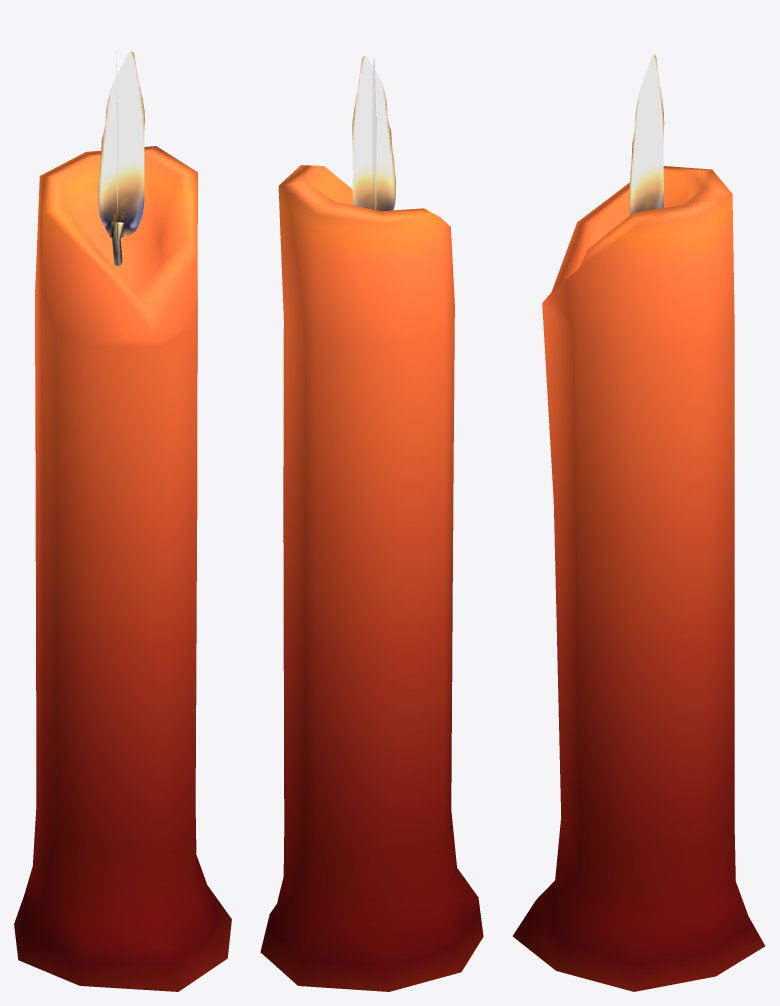
File: CandleShapeA.016.glb
3 views of the same model, side by side, from view 1: azimuth 30°, elevation 25°; view 2: azimuth 150°, elevation 25°; view 3: azimuth 270°, elevation 25° (orthographic).
Parts seen in each view (by area): view 1: CandleShapeA.016; view 2: CandleShapeA.016; view 3: CandleShapeA.016.
Boxes of the visible parts, box(x1,y1,x2,y2) form: CandleShapeA.016: box(14, 51, 231, 991); CandleShapeA.016: box(260, 56, 483, 991); CandleShapeA.016: box(512, 54, 764, 991).
Size of the model in its own units: 0.0814 by 0.3472 by 0.0887.
2 materials, 2 textured.
